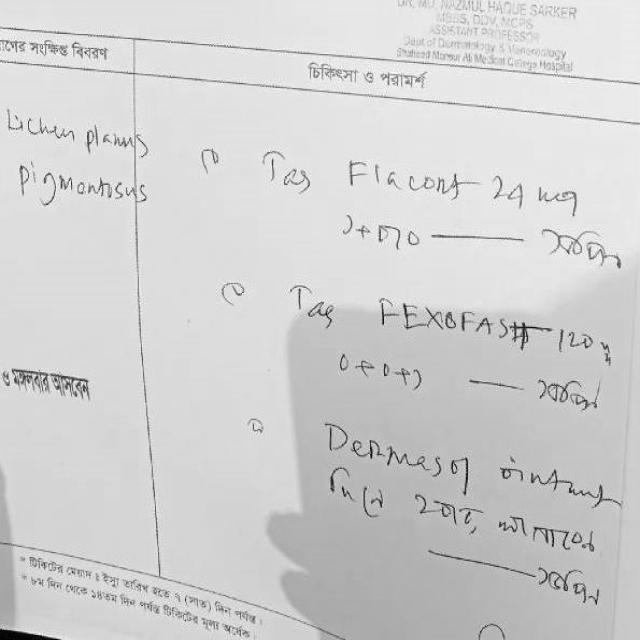medicine: (370, 281, 546, 355), (319, 411, 482, 479), (340, 142, 472, 218)
